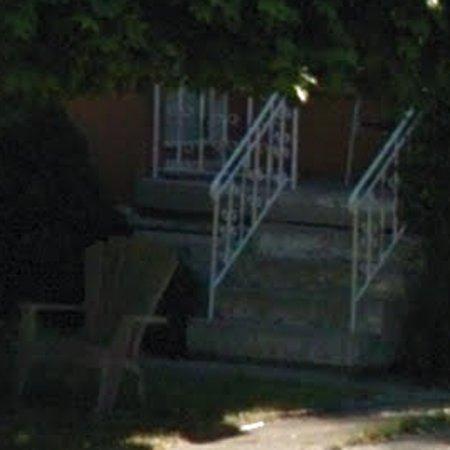stairs: (188, 157, 410, 366)
